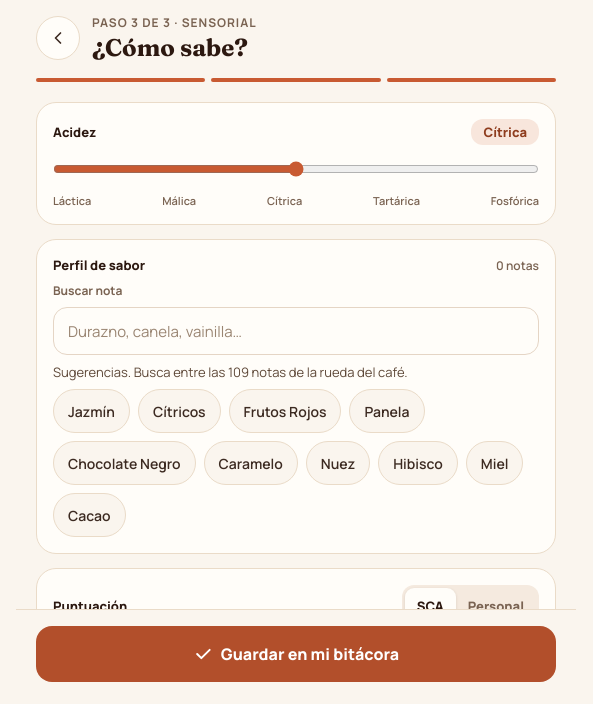
Test: Paso3Sensorial › no guarda sin notas y avisa
Click the button "Guardar en mi bitácora".
click(296, 654)  # box [36,626,556,682]
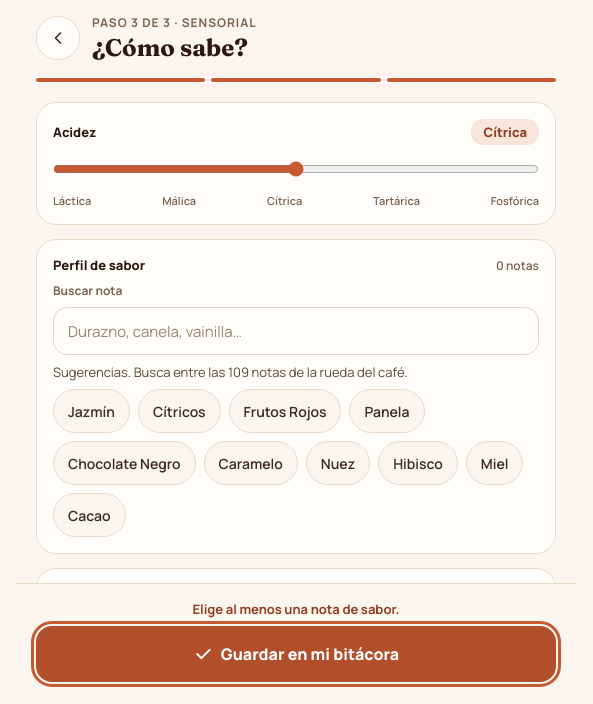
Check: the message "Elige al menos una nota de sabor." is shown, box [192,600,400,618]
